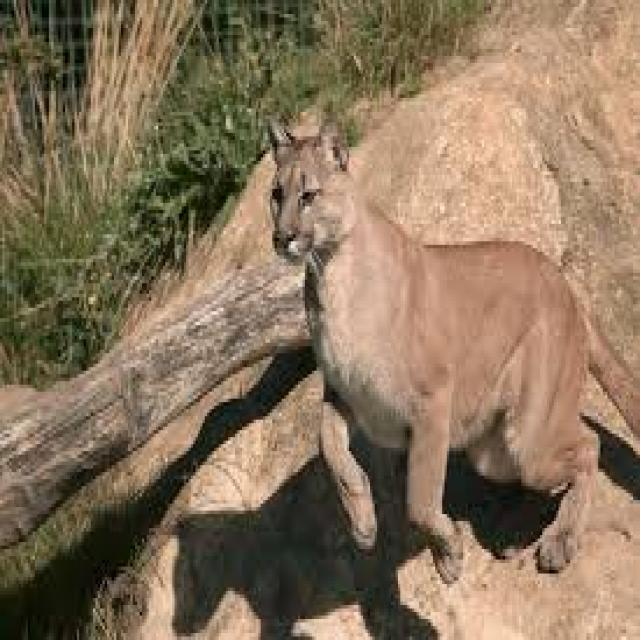Lion: (263, 109, 638, 591)
